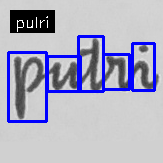i: (132, 42, 153, 92)
p: (11, 53, 45, 121)
r: (105, 53, 128, 94)
t: (83, 36, 104, 94)
u: (49, 59, 80, 92)
